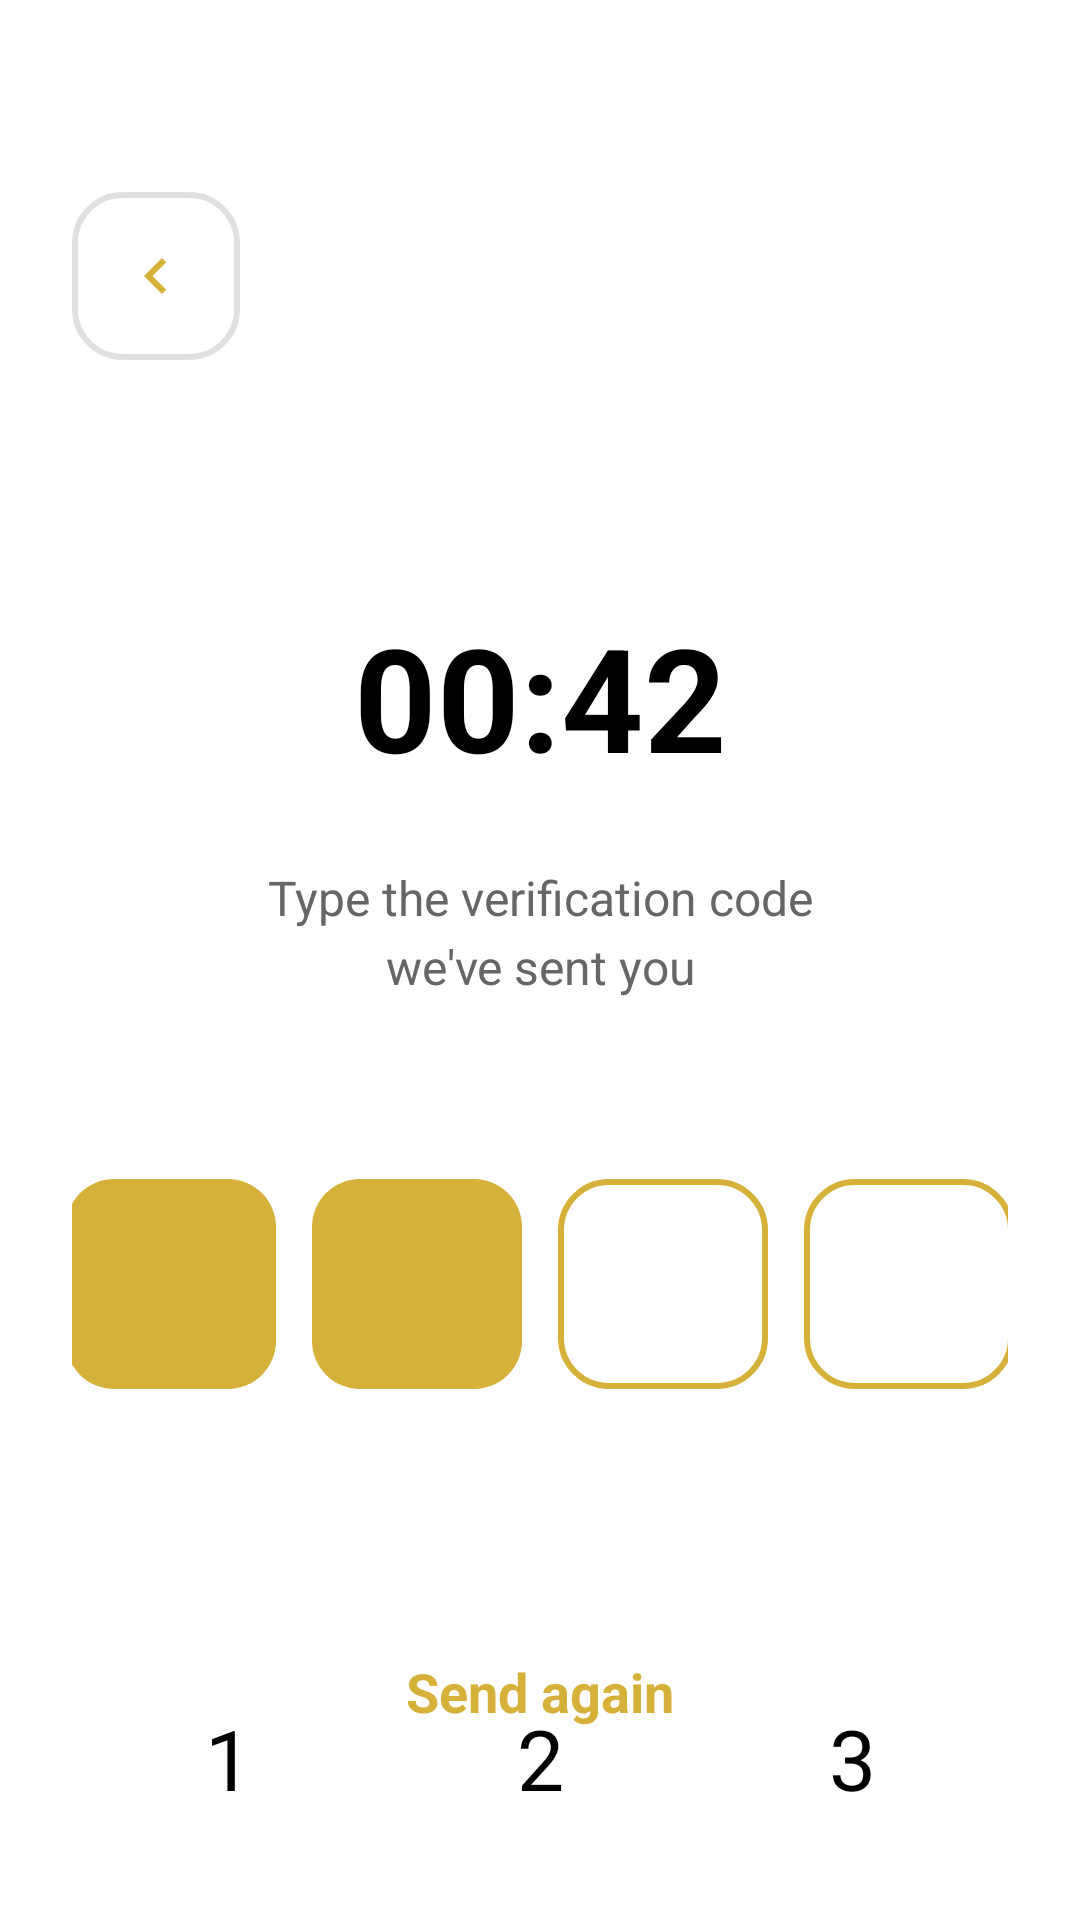

Icon click points for this 1080×1920 phone screenshot, format (x,y):
Back: (156,276)
